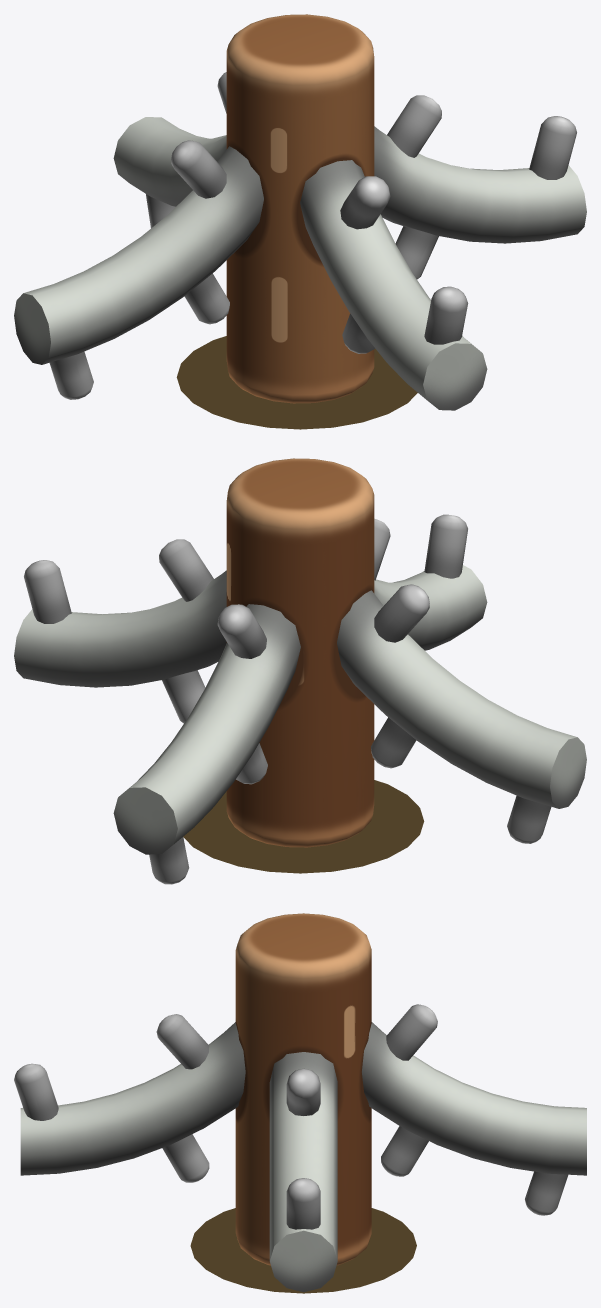
File: FenceC_4side.fbx
3 views of the same model, one above another, from view 1: azimuth 30°, elevation 25°; view 2: azimuth 150°, elevation 25°; view 3: azimuth 270°, elevation 25° (orthographic). The views are drawn at different scales.
Visible parts, largest first — view 1: FenceC_4side_line, fenceWood, fenceC2side_SDW; view 2: FenceC_4side_line, fenceWood, fenceC2side_SDW; view 3: FenceC_4side_line, fenceWood, fenceC2side_SDW.
Part boxes in pixels (x1,y1,x2,y2): FenceC_4side_line: (14, 72, 586, 410); fenceWood: (226, 14, 374, 403); fenceC2side_SDW: (176, 336, 417, 429); FenceC_4side_line: (14, 514, 586, 884); fenceWood: (226, 458, 374, 847); fenceC2side_SDW: (183, 780, 424, 873); FenceC_4side_line: (14, 1004, 586, 1292); fenceWood: (235, 913, 371, 1265); fenceC2side_SDW: (190, 1208, 416, 1293).
Bounding box in the file's own units: 101 × 60 × 101.
Materials: 2 (1 with a texture image).
